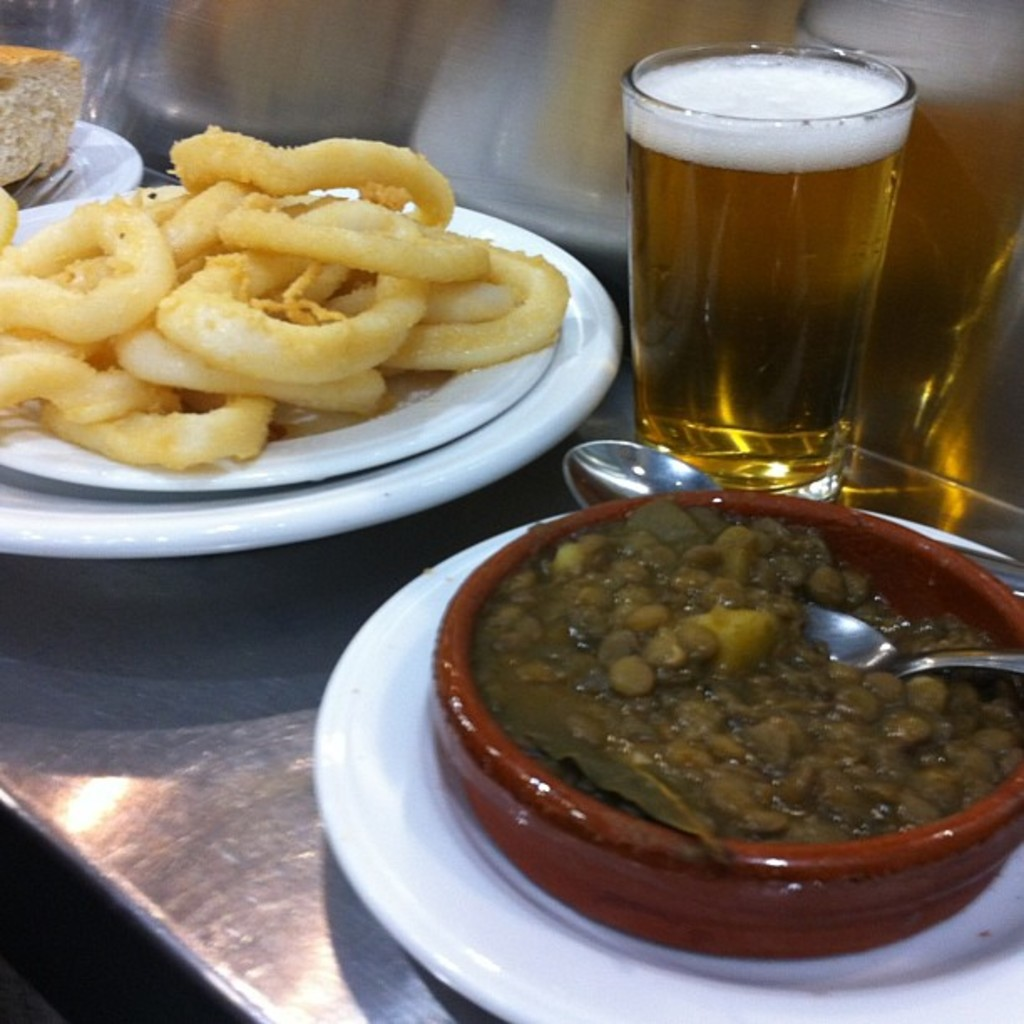French fries: (38, 115, 612, 470)
